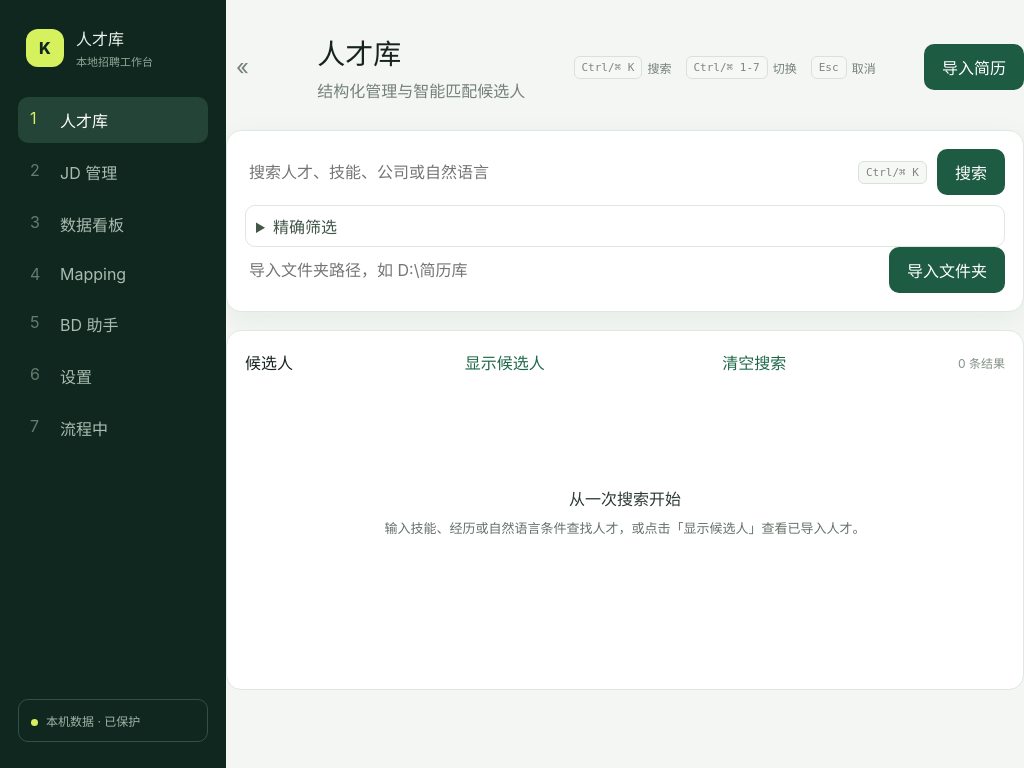
Test case: recruitment consistency through the App › uses the newest effective result and restores actions after that result is voided
The width and height of the screenshot is (1024, 768).
Click the button "7 流程中".
click(113, 428)  # box [18,405,208,451]
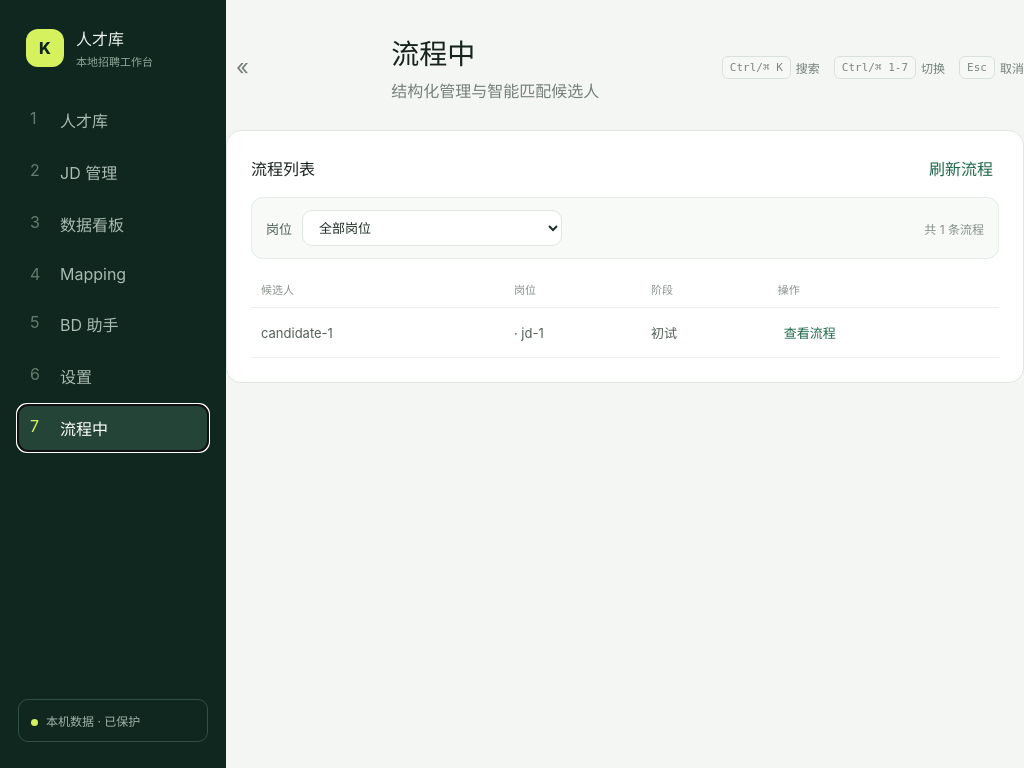
Click the button "查看流程".
click(810, 332)  # box [778,322,842,343]
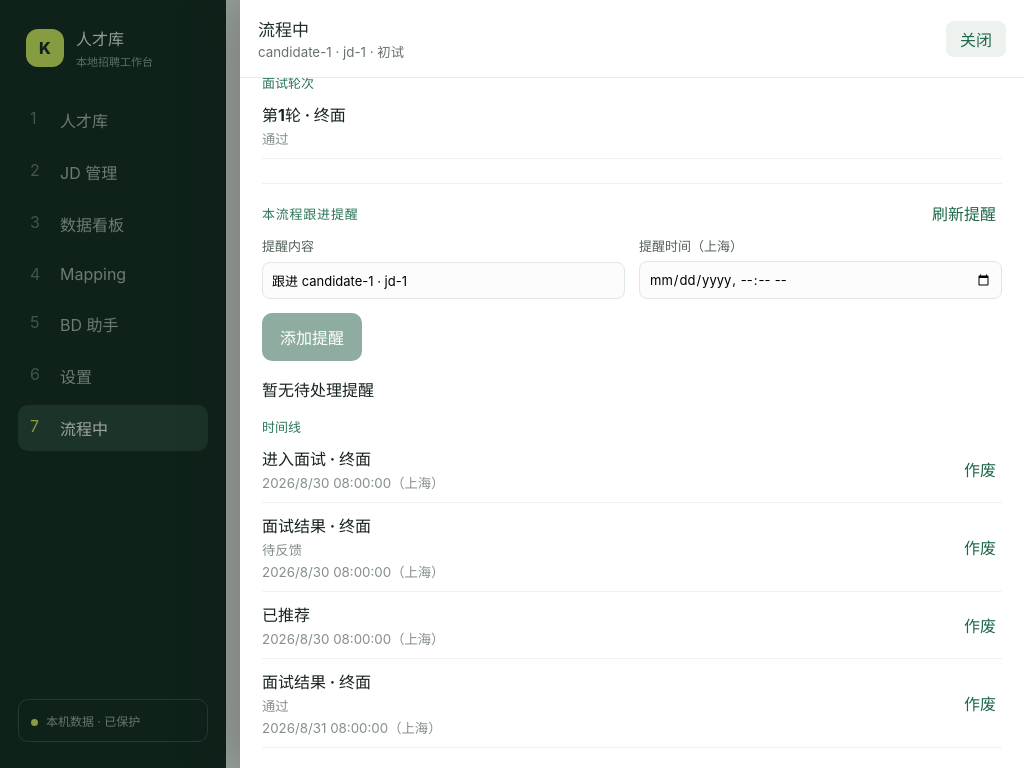
Expected: the button "通过（结束面试）" is not shown
Expected: the text named "第1轮当前结果" reads "通过", [262,131,289,147]
Click the button named "作废面试结果 passed".
click(980, 703)  # box [958,690,1002,716]
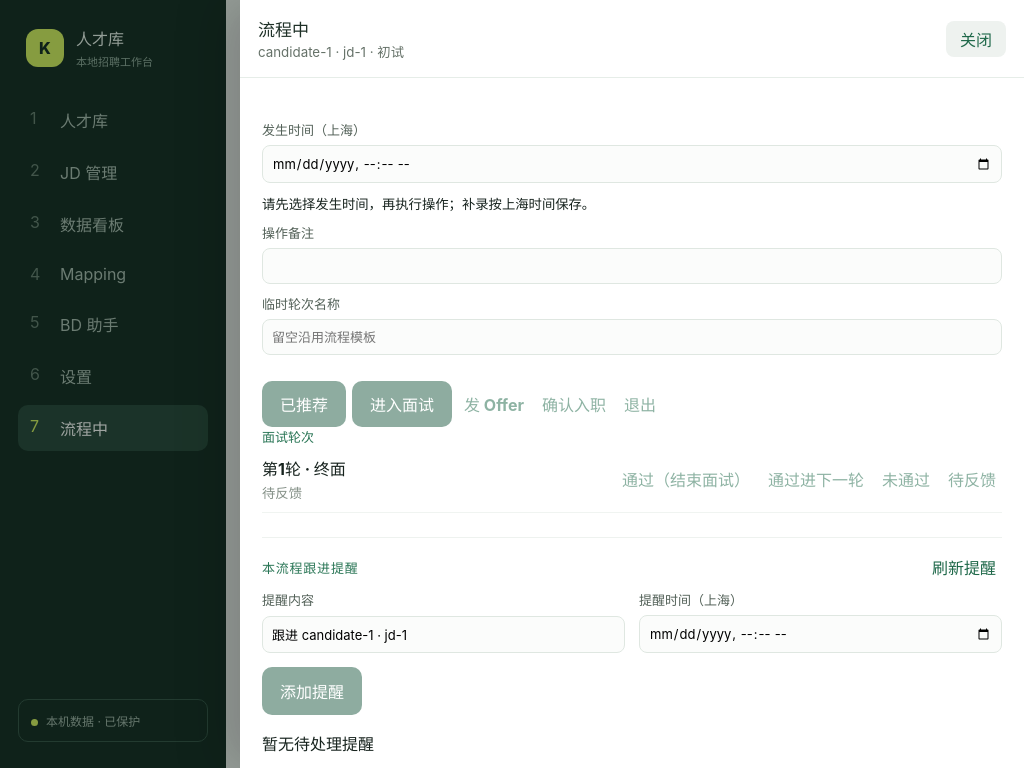
Type "2026-08-30T15:30" into the field labelled "发生时间（上海）".
click(632, 164); type("2026-08-30T15:30")  # box [262,145,1002,183]
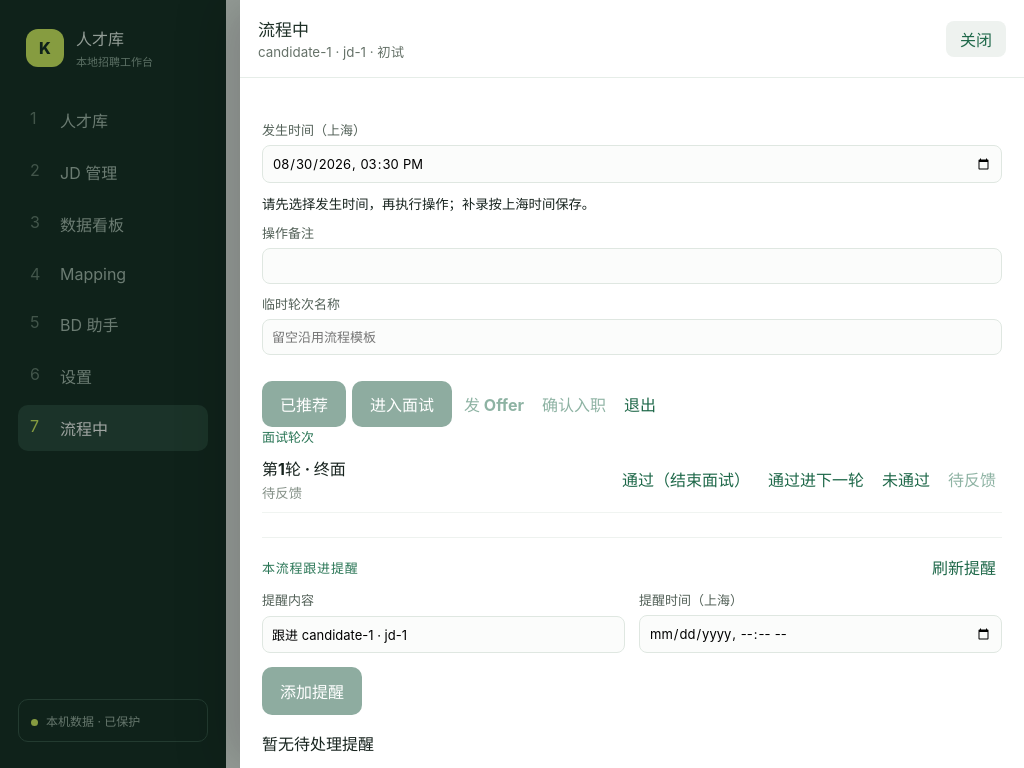
Expected: the text named "第1轮当前结果" reads "待反馈", [262,485,302,501]
Expected: the button "通过（结束面试）" is enabled, [616,466,756,492]
